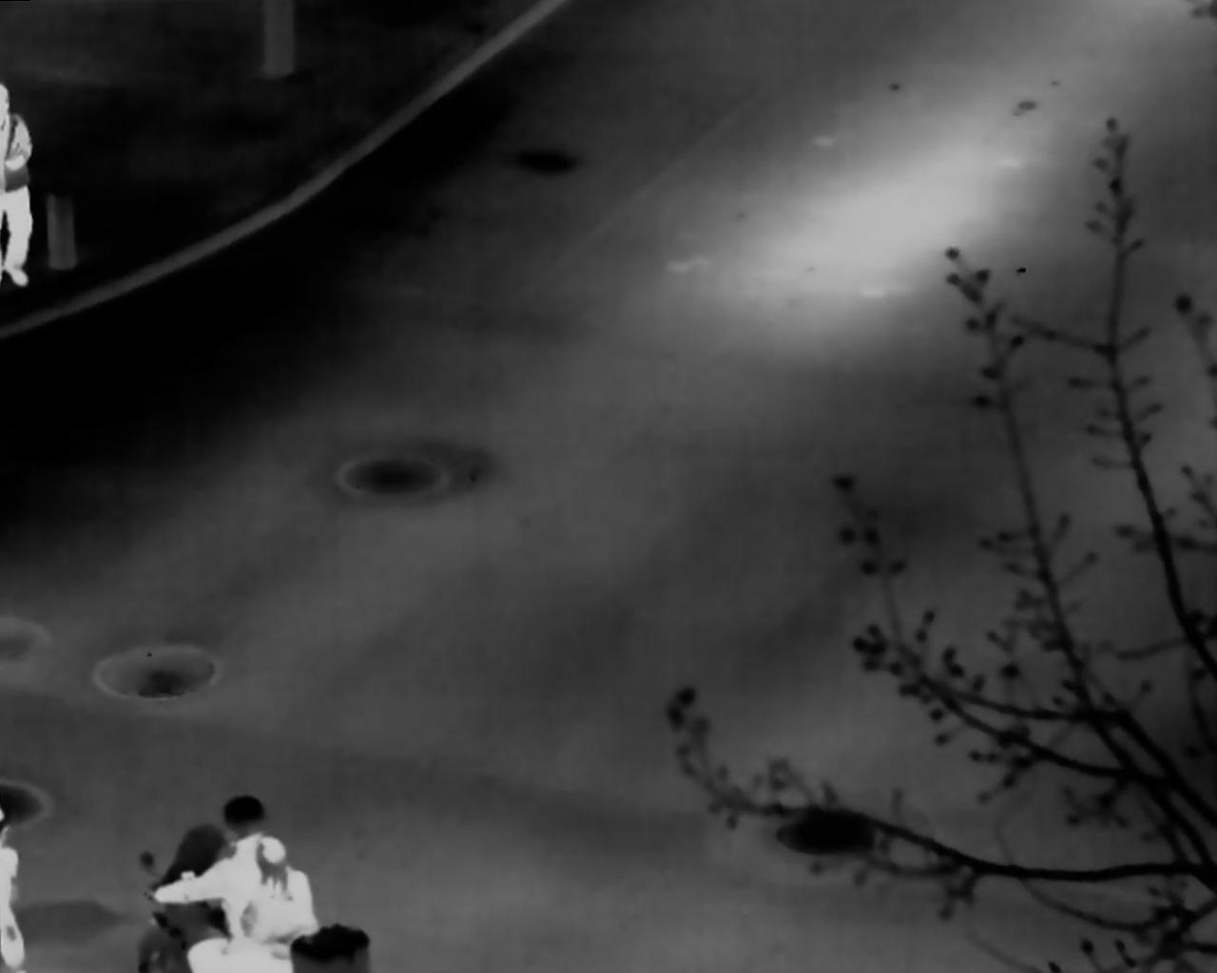person: (157, 798, 316, 973), (227, 828, 315, 973)
